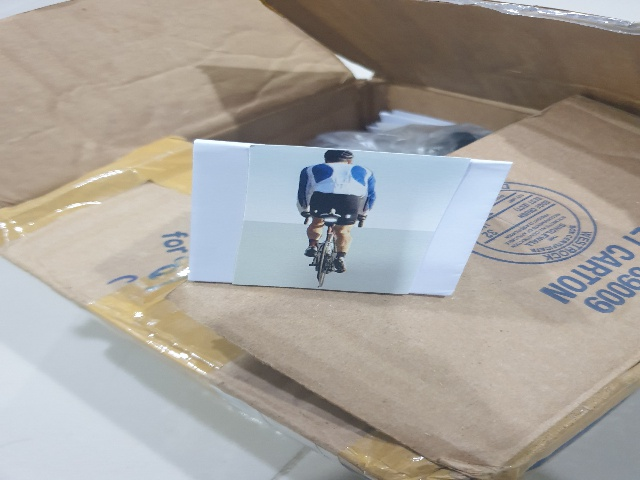Cyclist: (286, 149, 382, 292)
